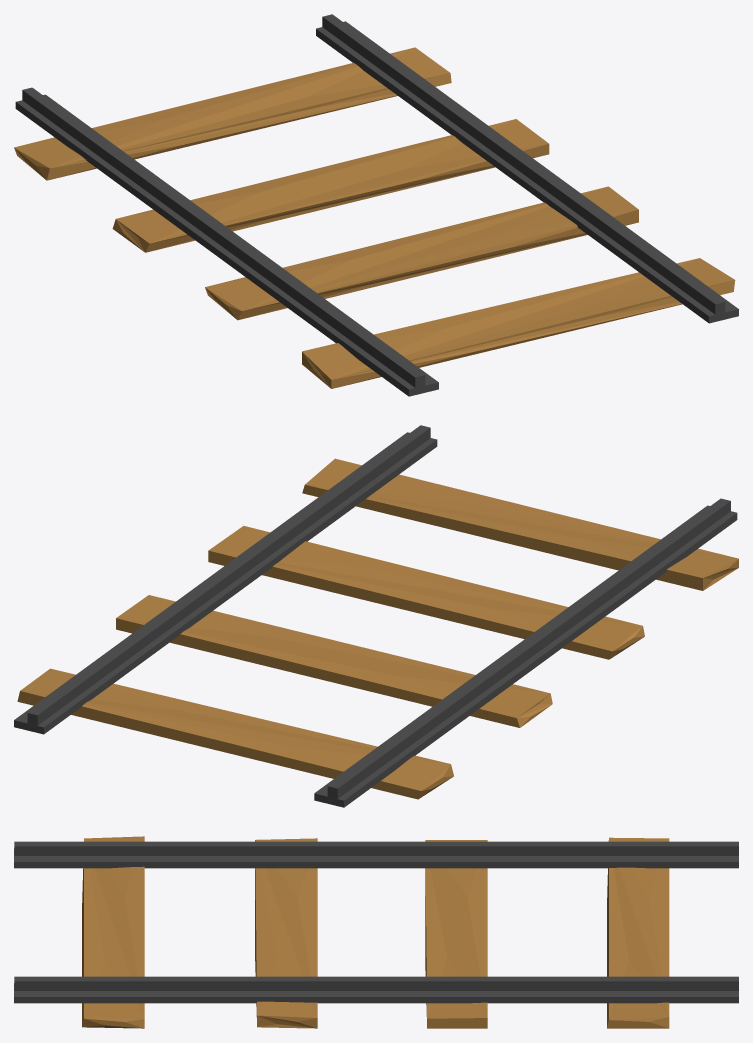
Rendered from Model_Track_Straight.FBX.
3 renders of one model, top to bottom at view 1: azimuth 30°, elevation 25°; view 2: azimuth 150°, elevation 25°; view 3: azimuth 270°, elevation 25°, orthographic. The views are drawn at different scales.
Visible parts, largest first — view 1: Track_Staight; view 2: Track_Staight; view 3: Track_Staight.
Boxes of the visible parts, x1,y1,x2,y2 form: Track_Staight: [14, 14, 738, 396]; Track_Staight: [14, 425, 738, 807]; Track_Staight: [14, 836, 738, 1028].
Bounding box in the file's own units: 203 × 13.48 × 343.
